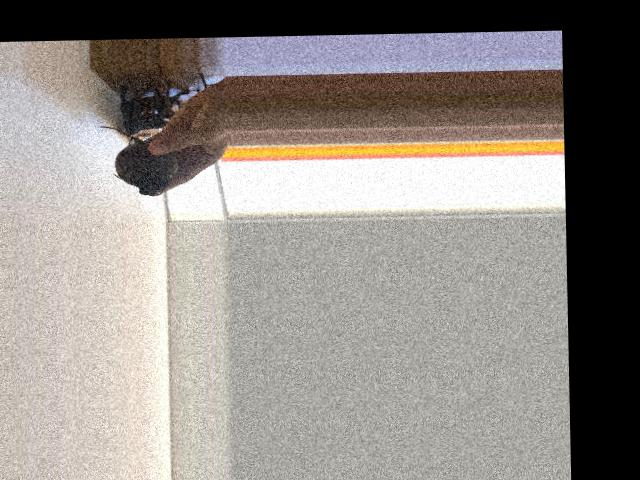beet: (96, 124, 178, 197)
